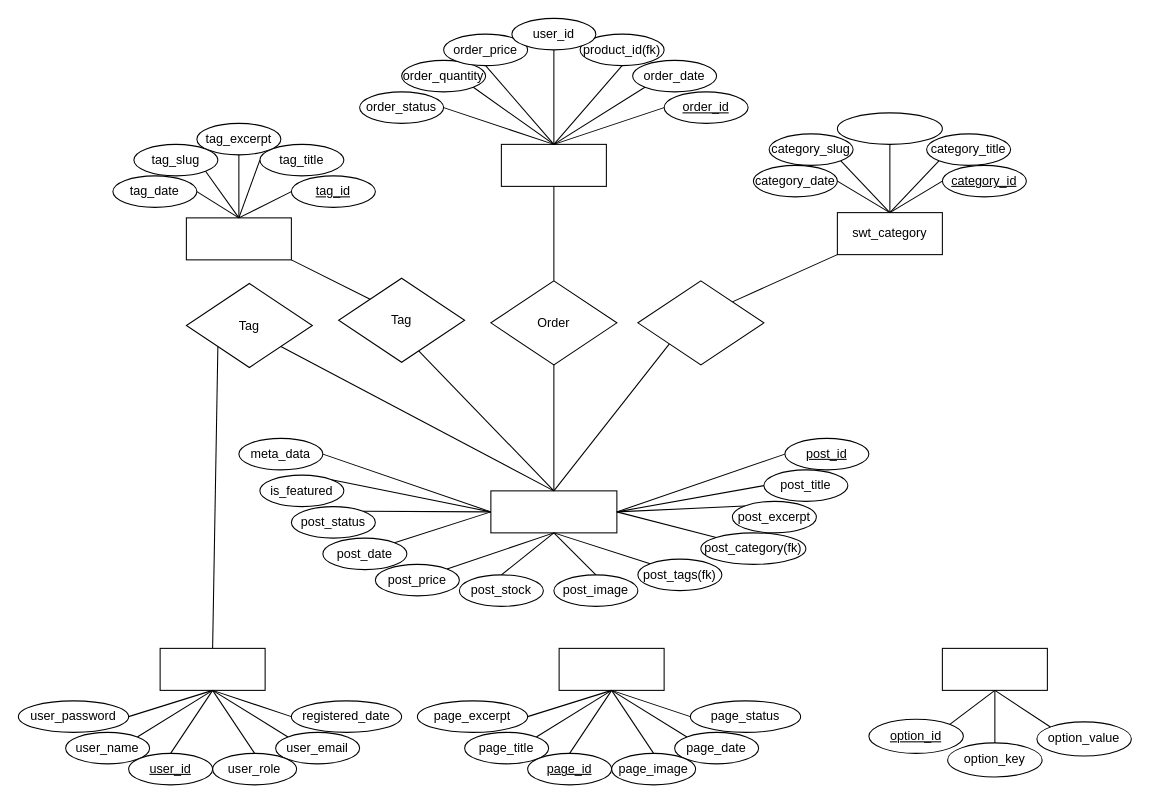
Some shapes in this 1150 by 803 pixel diagram are drawn without their labels. Here are the shapes that lost their labels. From the top down, the centre of each, then its label:
[889,128]: category_excerpt
[553,164]: swt_orders
[238,238]: swt_tags
[700,322]: Category
[553,511]: swt_posts
[212,668]: swt_users
[611,668]: swt_pages
[994,668]: swt_options
